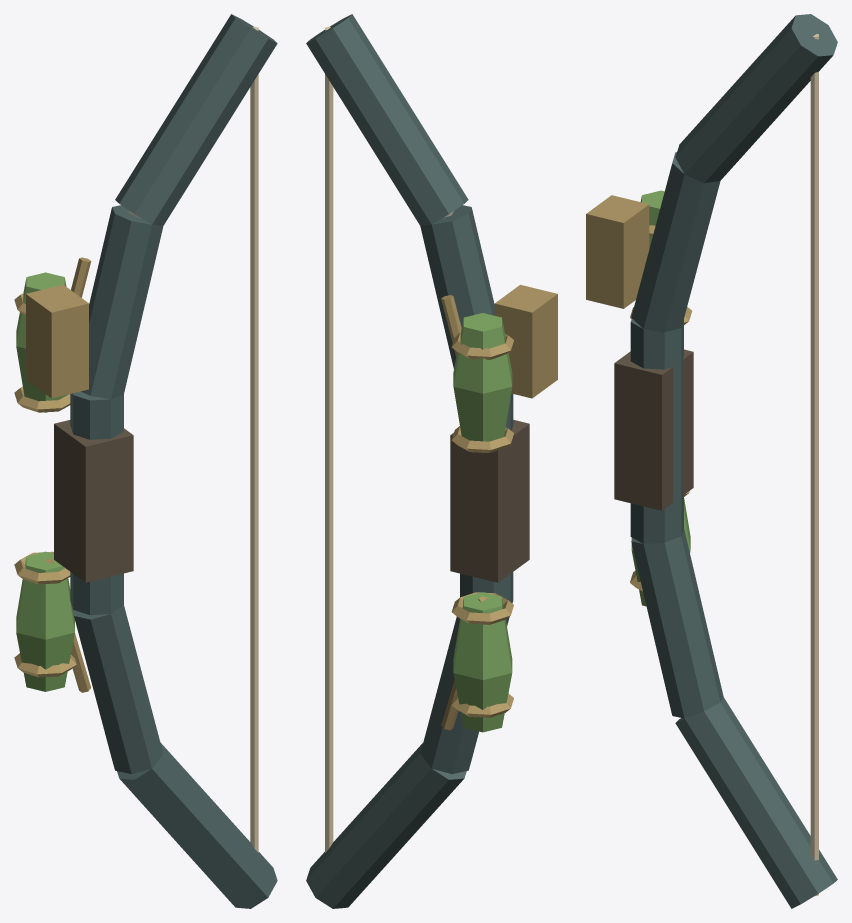
The model's file is Arsenal_GraveDistiller.fbx.
3 renders of one model, left to right at view 1: azimuth 30°, elevation 25°; view 2: azimuth 150°, elevation 25°; view 3: azimuth 330°, elevation 25°, orthographic.
Visible parts, largest first — view 1: Arsenal_GraveDistiller; view 2: Arsenal_GraveDistiller; view 3: Arsenal_GraveDistiller.
Part boxes in pixels (x1,y1,x2,y2): Arsenal_GraveDistiller: (14, 14, 277, 908); Arsenal_GraveDistiller: (306, 14, 557, 908); Arsenal_GraveDistiller: (586, 14, 837, 908).
Size of the model in its own units: 0.3432 by 1.24 by 0.151.
